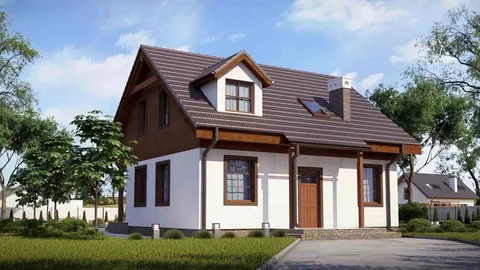private_hause: (118, 43, 409, 233)
